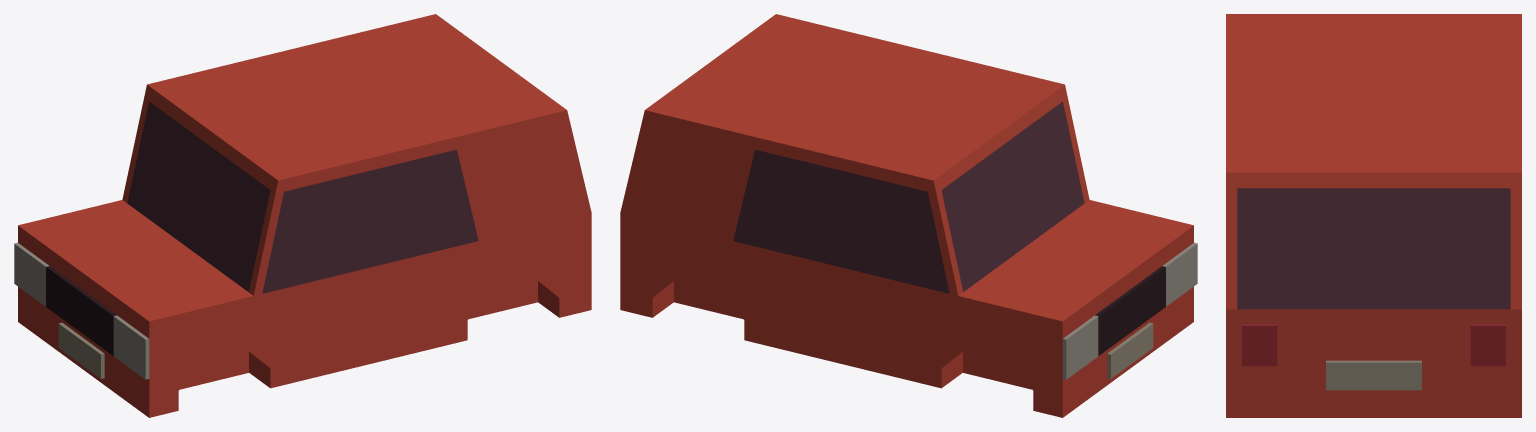
Rendered from Suv_Red.fbx.
3 views of the same model, side by side, from view 1: azimuth 30°, elevation 25°; view 2: azimuth 150°, elevation 25°; view 3: azimuth 270°, elevation 25° (orthographic). The views are drawn at different scales.
Parts seen in each view (by area): view 1: Suv_Red, Suv_Lights; view 2: Suv_Red, Suv_Lights; view 3: Suv_Red, Suv_Lights.
Boxes of the visible parts, <box> form: Suv_Red: <box>18,14,591,417</box>; Suv_Lights: <box>14,242,149,379</box>; Suv_Red: <box>620,14,1193,417</box>; Suv_Lights: <box>1062,242,1197,379</box>; Suv_Red: <box>1226,14,1521,417</box>; Suv_Lights: <box>1242,324,1505,366</box>.
Bounding box in the file's own units: 3.66 × 1.6 × 1.85.
